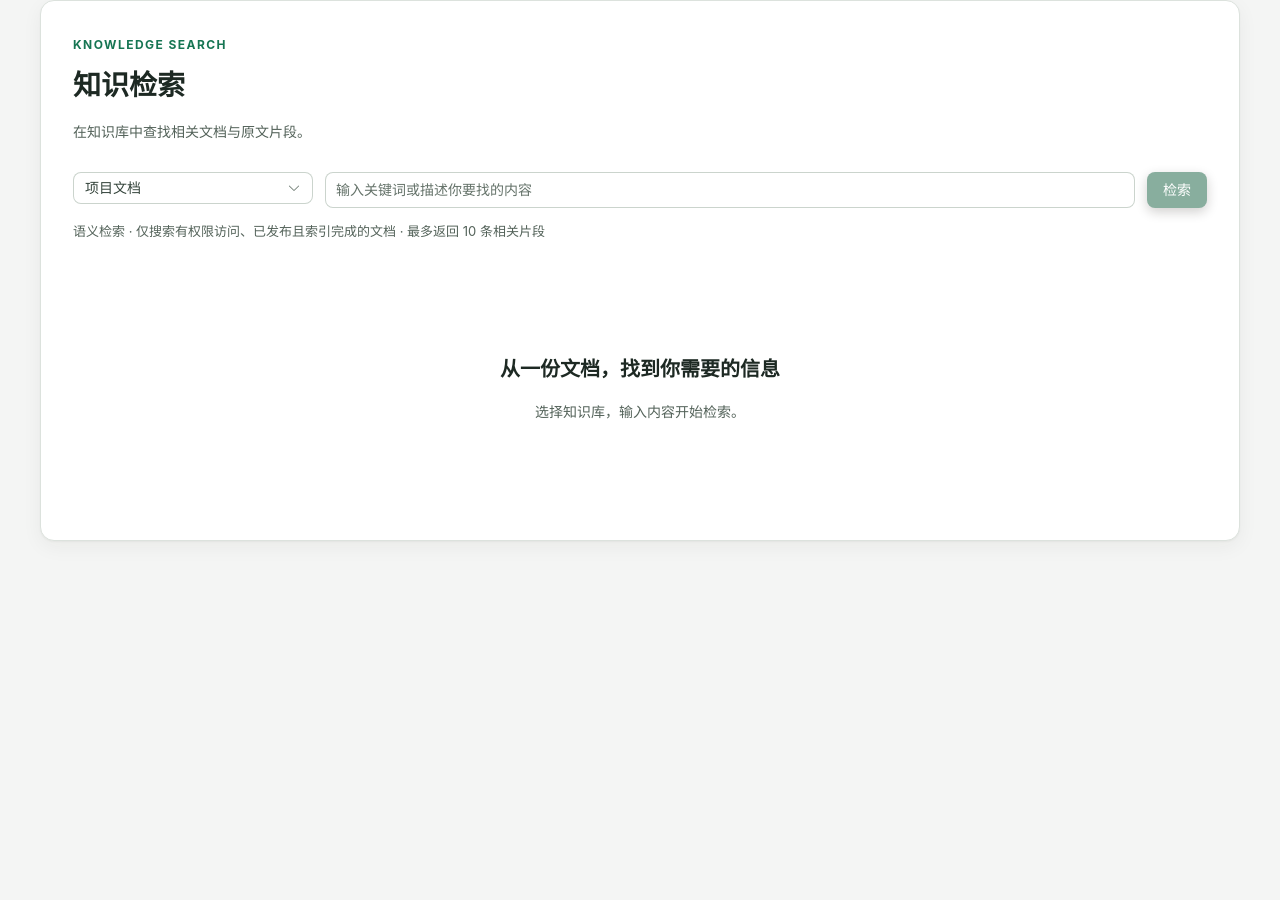
Test: 知识检索 › summarizes documents and expands long passages
The image size is (1280, 900).
In the field named "检索内容": (730, 190) [336, 175, 1124, 205], type "部署"
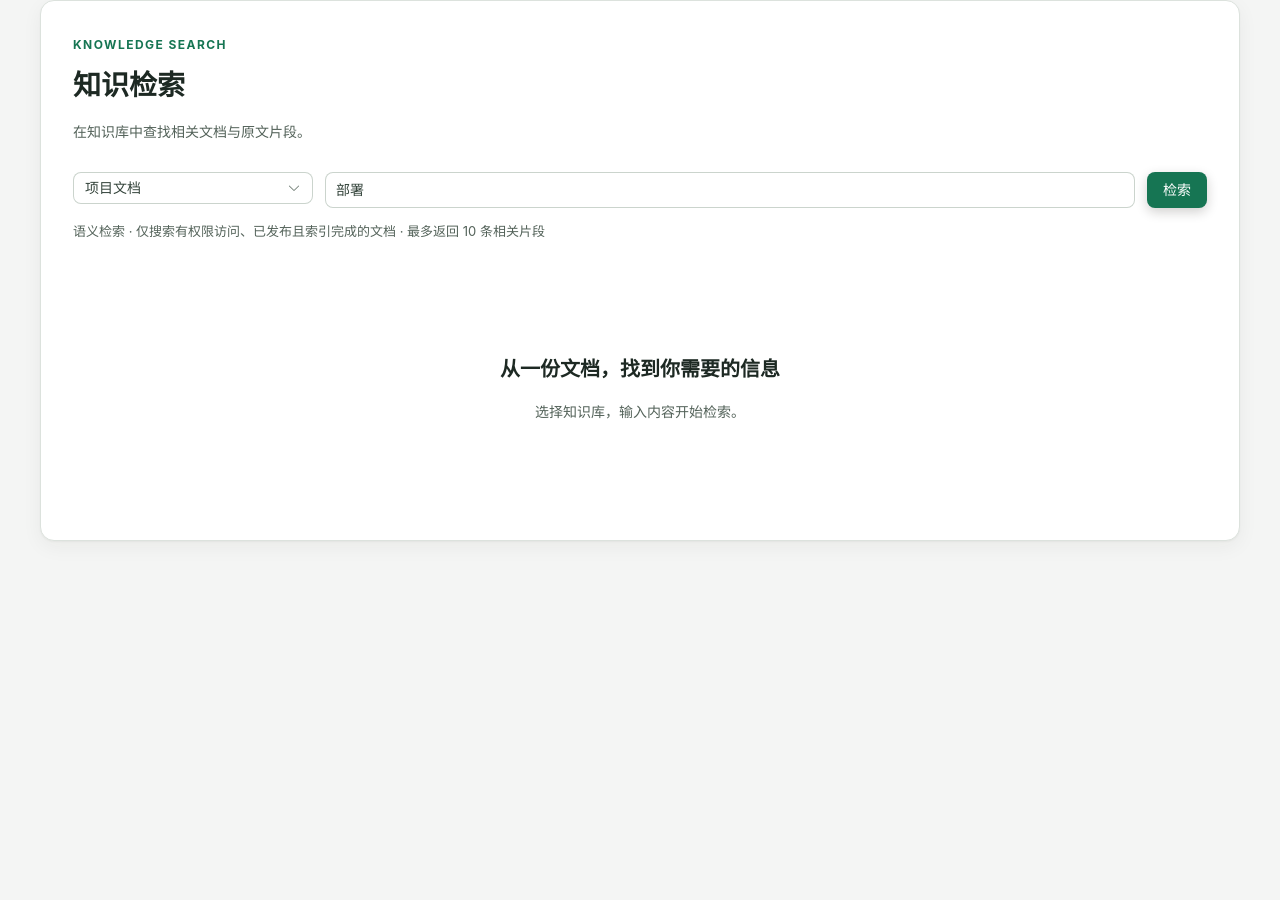
Submit the form, box [73, 172, 1207, 208]
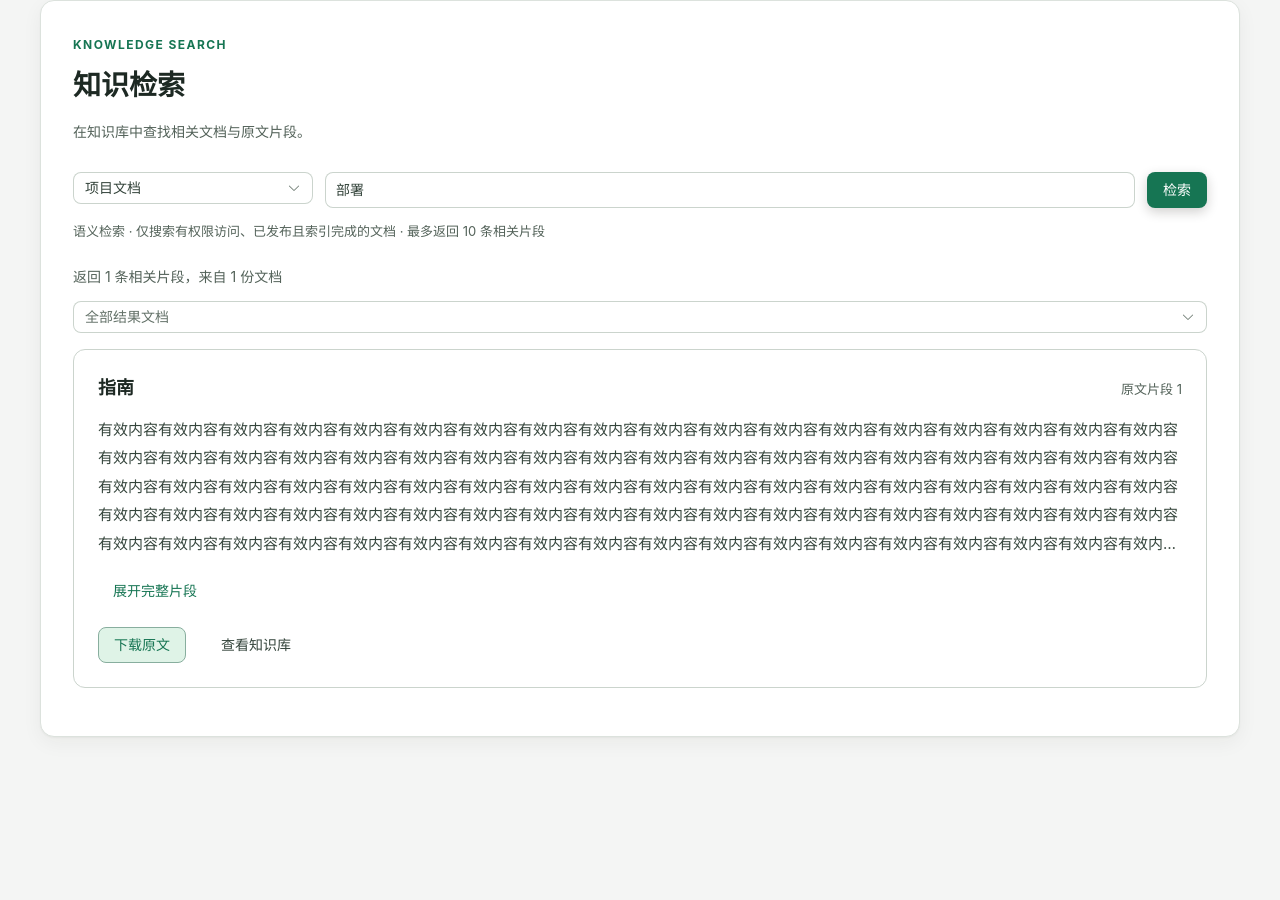
expect the text "来自 1 份文档" is shown: met, box [73, 268, 282, 285]
Click the button "展开完整片段": (155, 591) [98, 573, 212, 609]
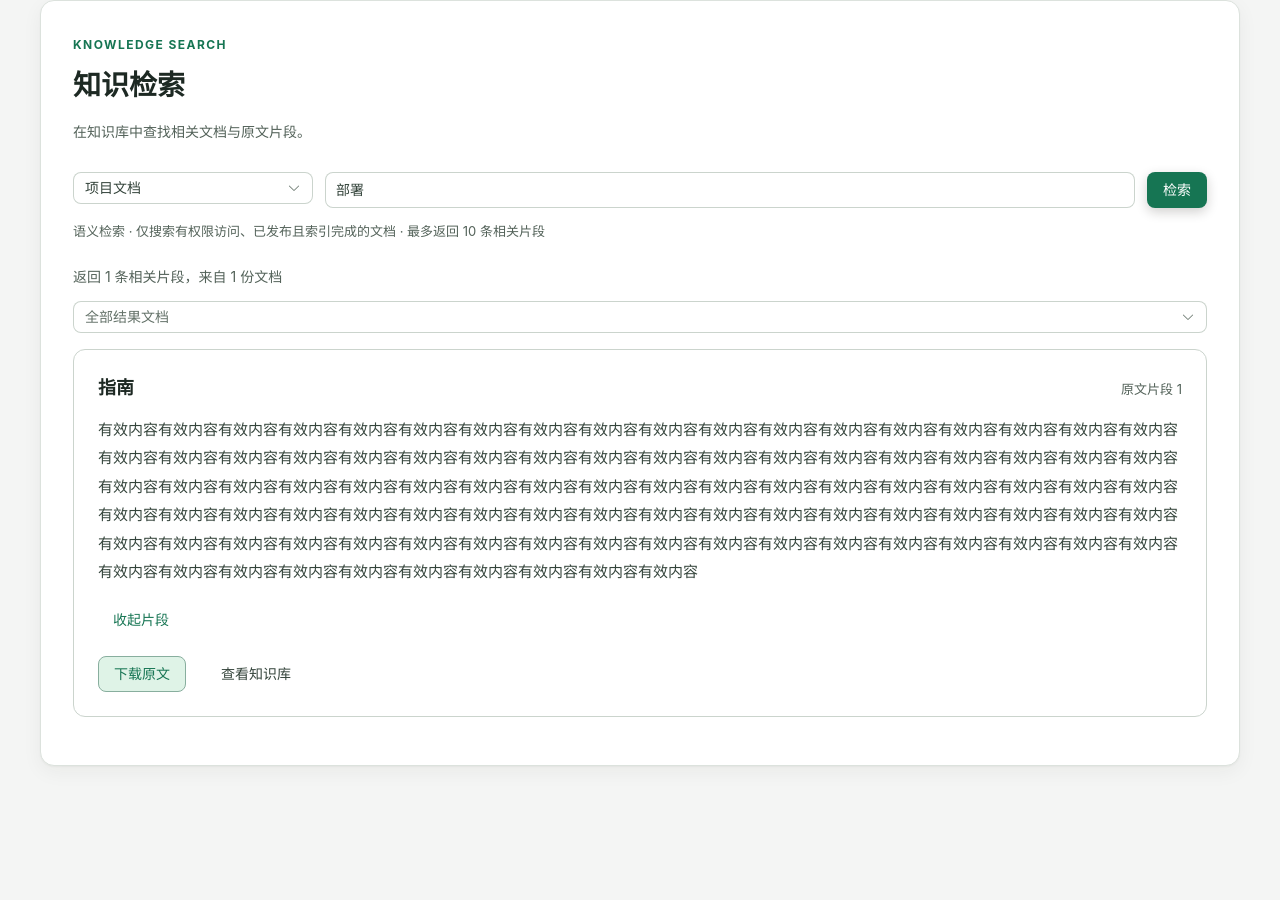
expect the text "收起片段" is shown: met, box [113, 613, 169, 627]
